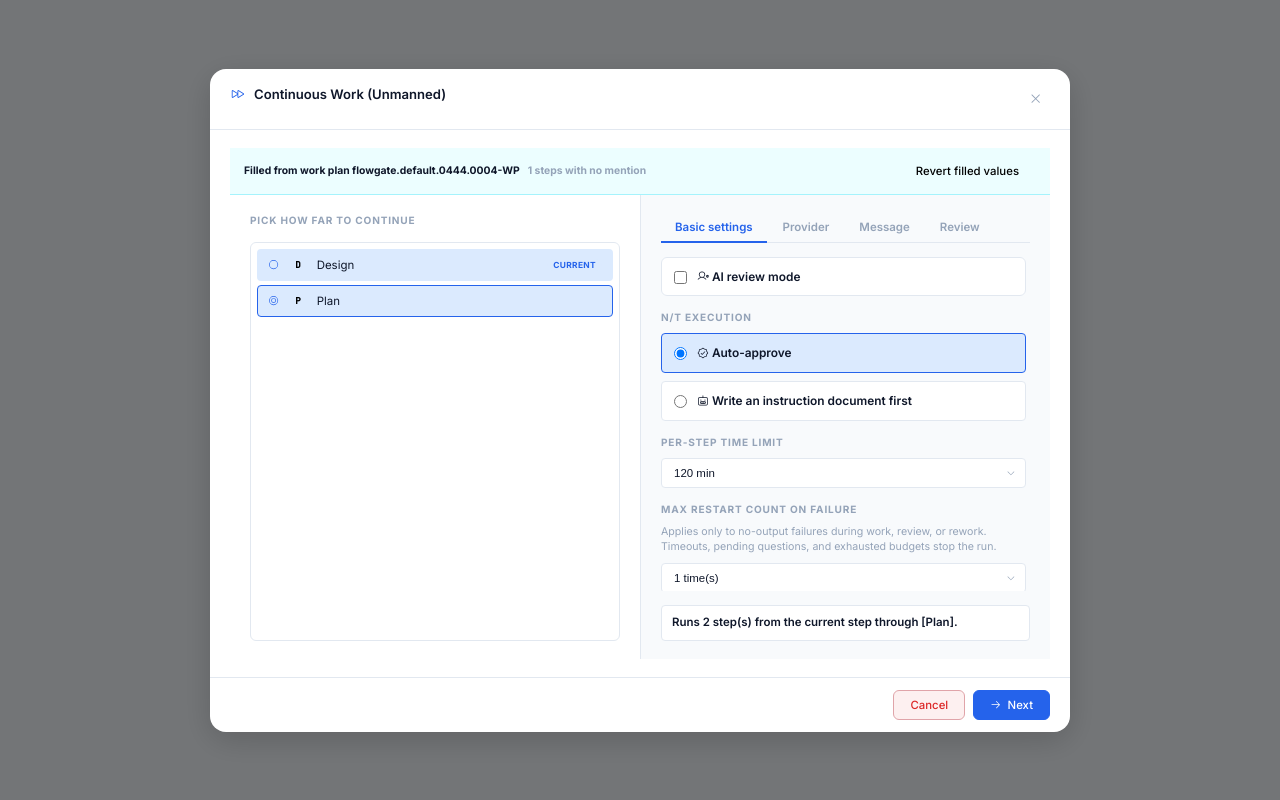
Scenario: ContinuousWorkDialog note/provider touch sets are separate (0444 T0007 §5-3 / 0554 T0012) › keeps a provider the person chose through a mode switch, without touching the row mention
Click the button with class "cwd-tab" showing "Provider" at (806, 228), box [769,212,843,242]
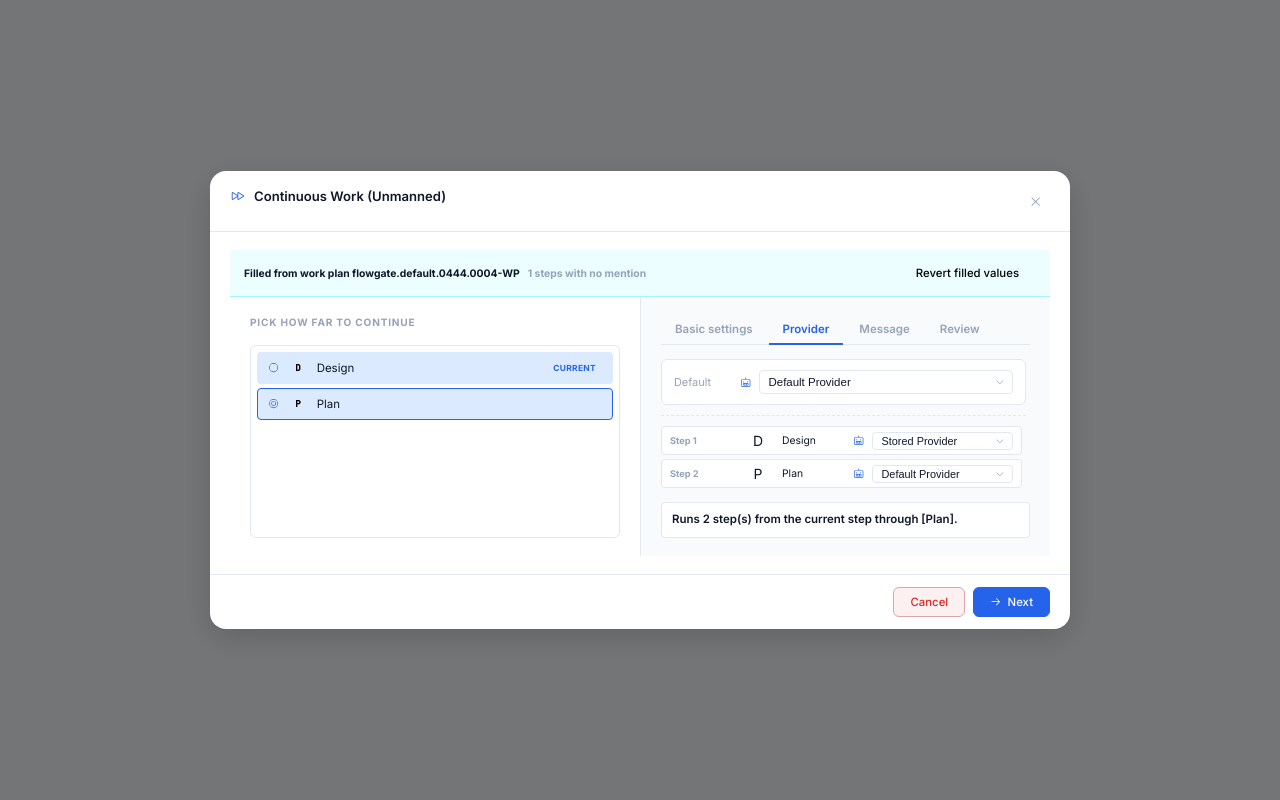
Select "Third Provider" in the dropdown with class "aip-select-input" in the row of "Step 1" at (943, 441), box [872,432,1013,450]
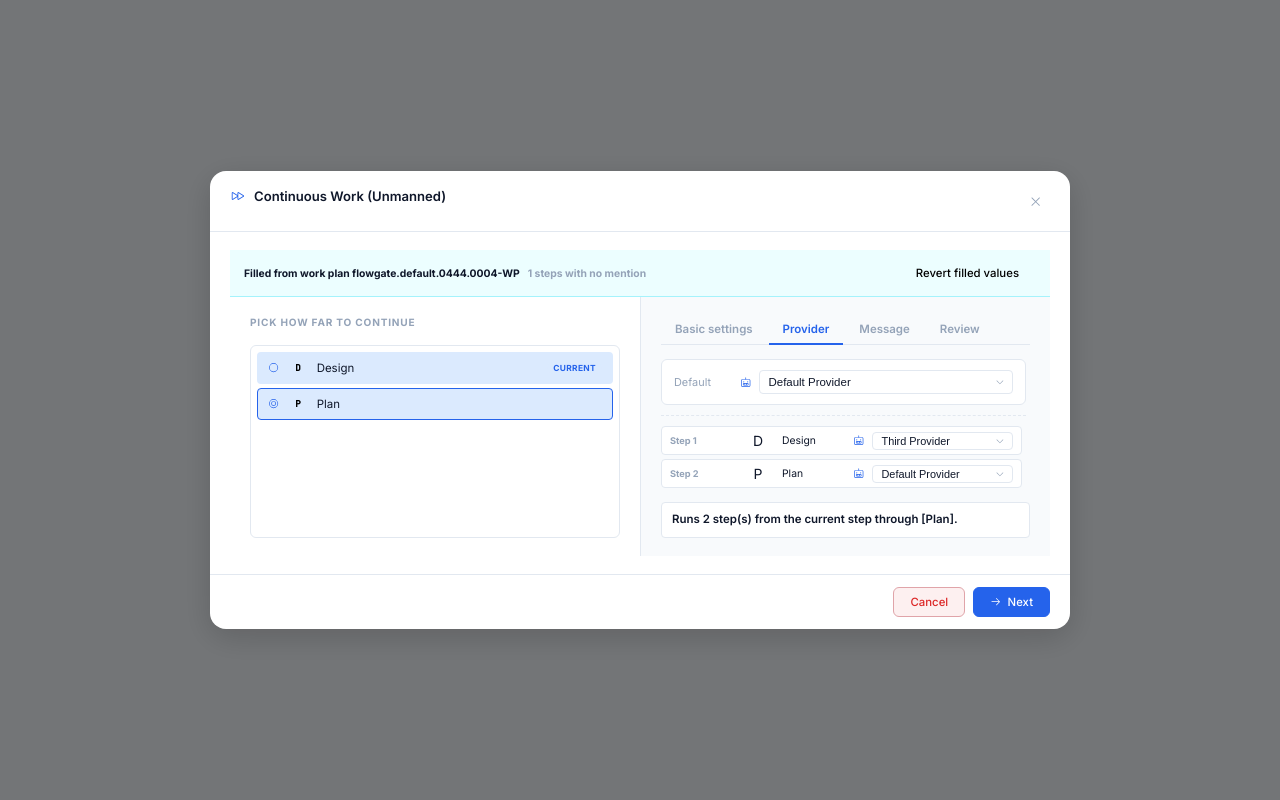
Click the button with class "cwd-tab" showing "Basic settings" at (714, 330), box [661,315,767,345]
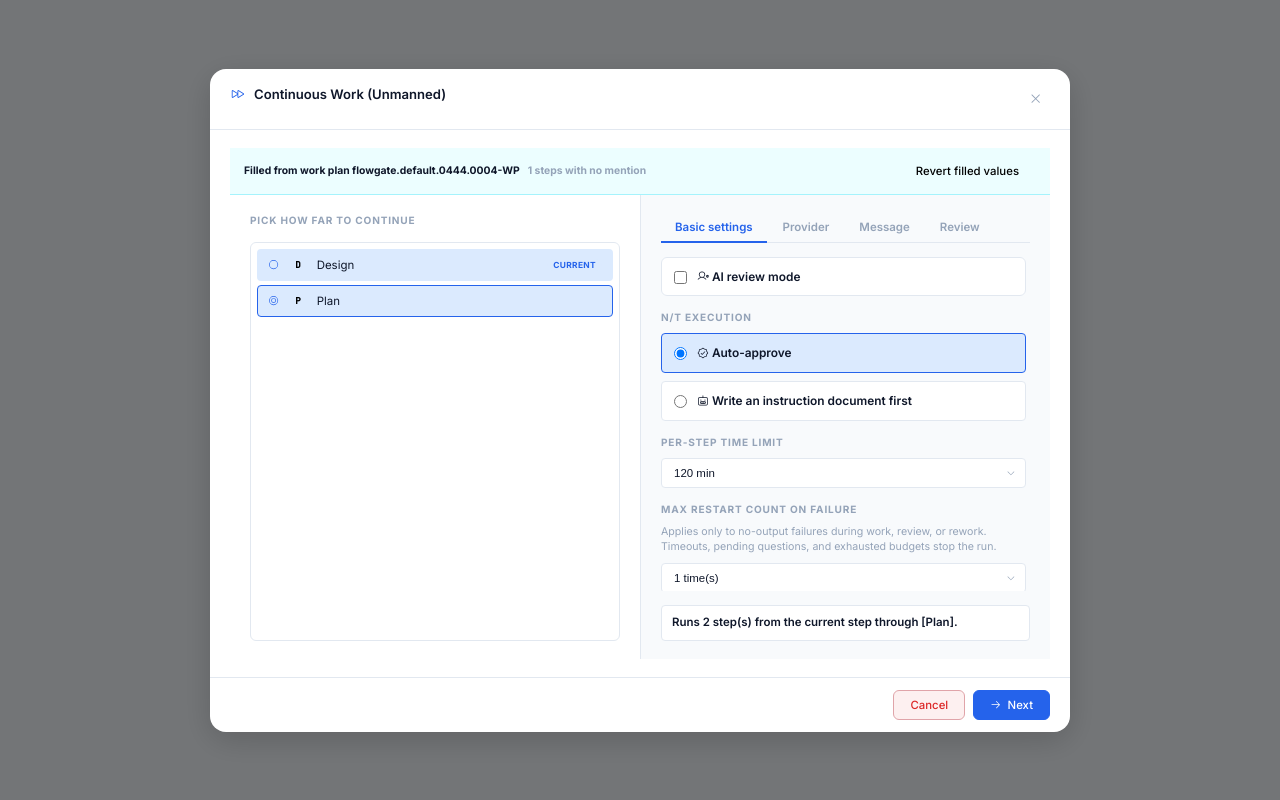
Click the radio button labelled "Write an instruction document first" at (680, 402), box [674,395,687,408]
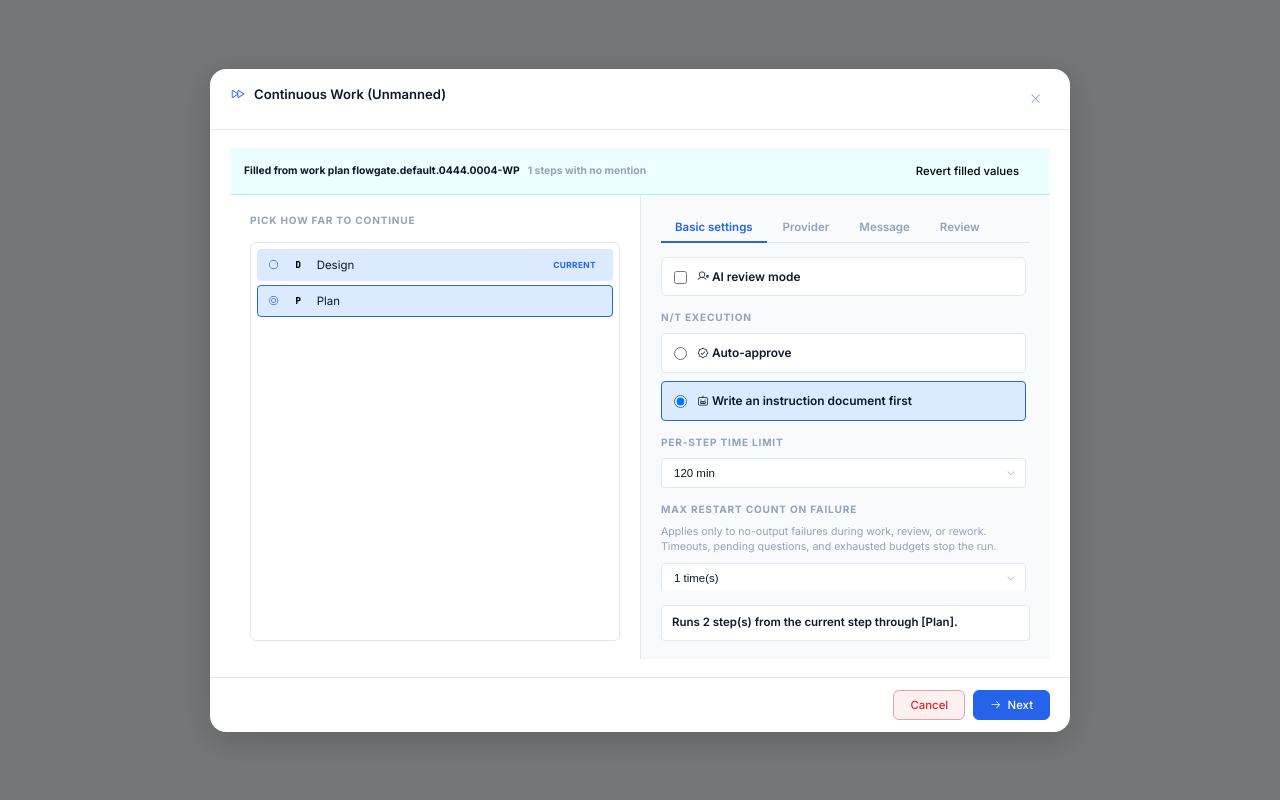
Click the button with class "cwd-tab" showing "Provider" at (806, 228), box [769,212,843,242]
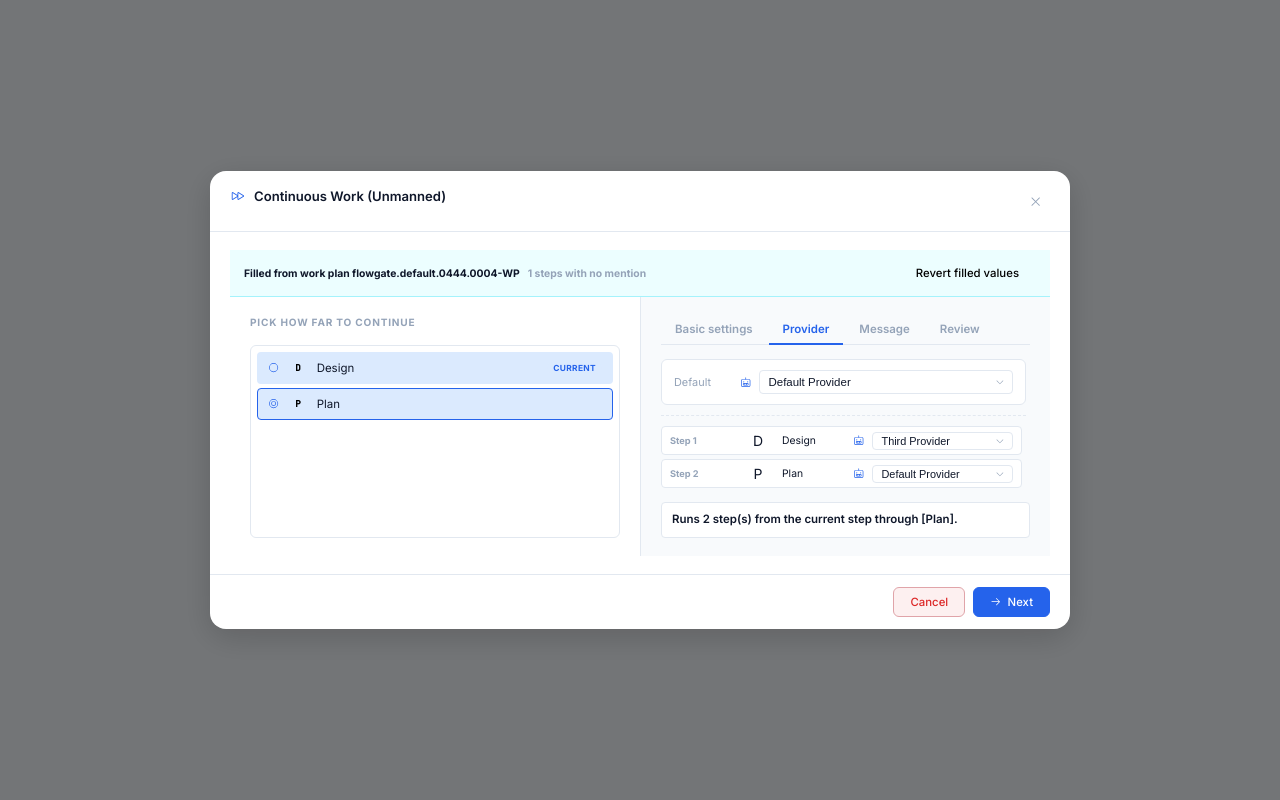
Result: the dropdown with class "aip-select-input" in the row of "Step 1" shows "Third Provider" at [872,432,1013,450]
Click the button with class "cwd-tab" showing "Message" at (885, 330), box [845,315,924,345]
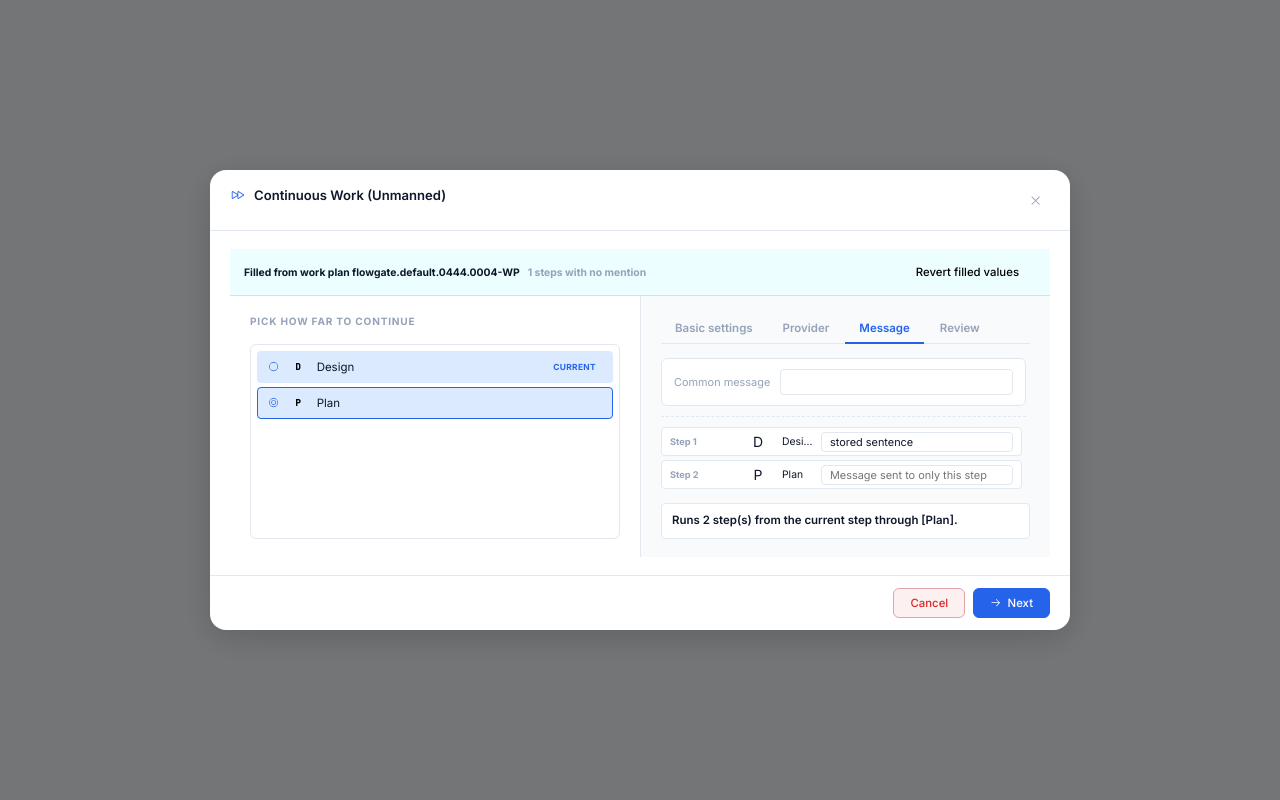
Result: the field with class "cwd-override-message-input" holds "stored sentence" at [821,432,1013,452]
